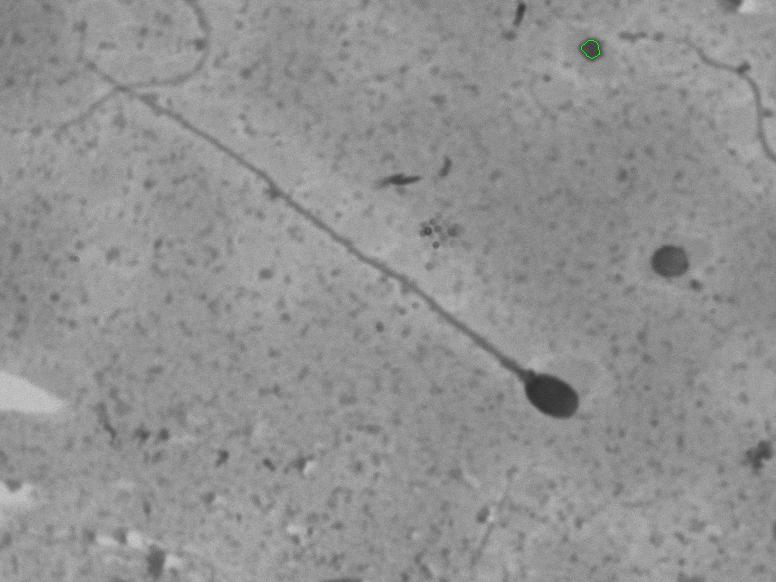Normal: (70, 30, 621, 456)
